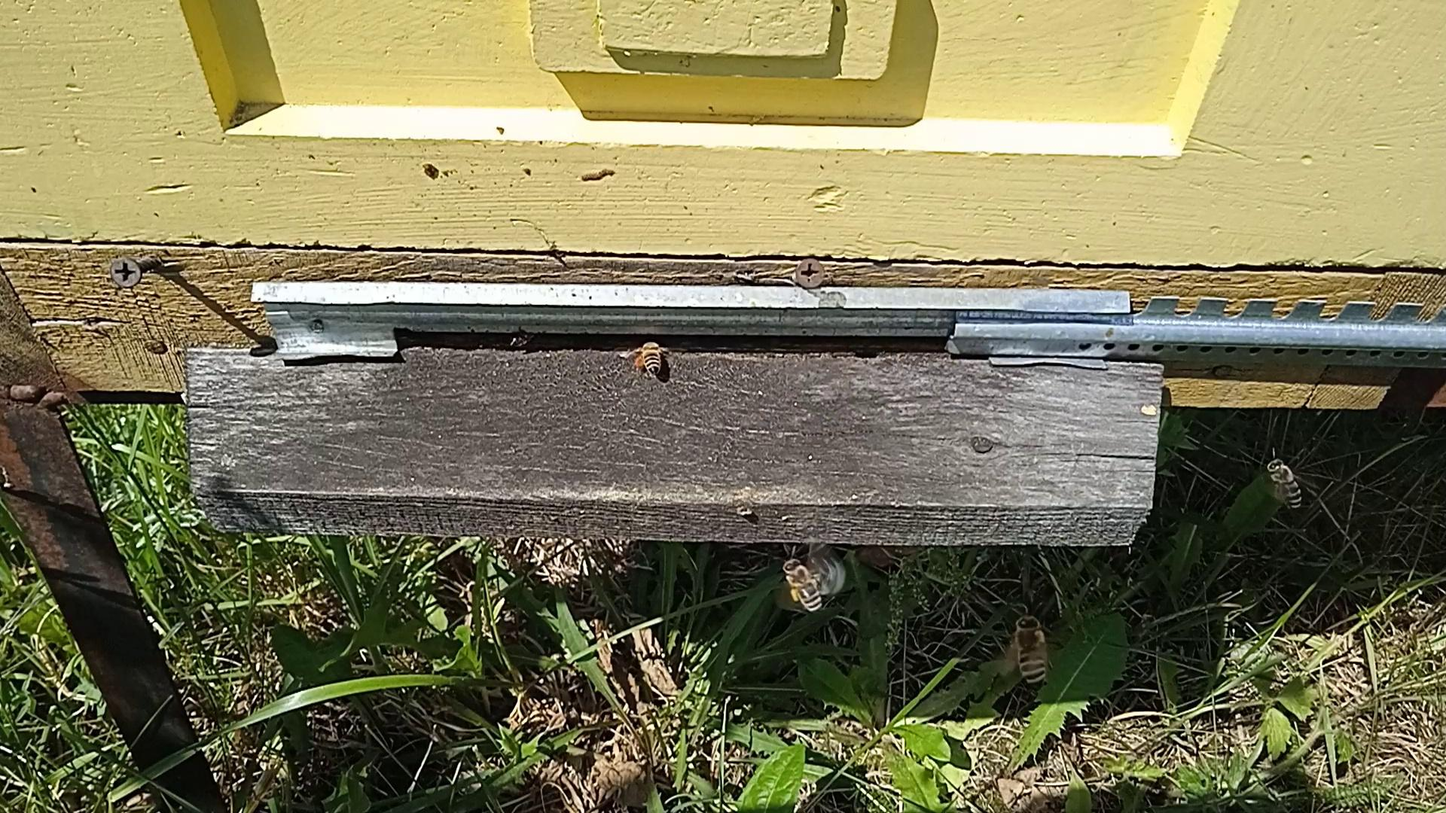worker-bee: (1012, 614, 1050, 688), (781, 557, 824, 614), (1266, 458, 1303, 510), (631, 338, 667, 378), (506, 332, 536, 350)
